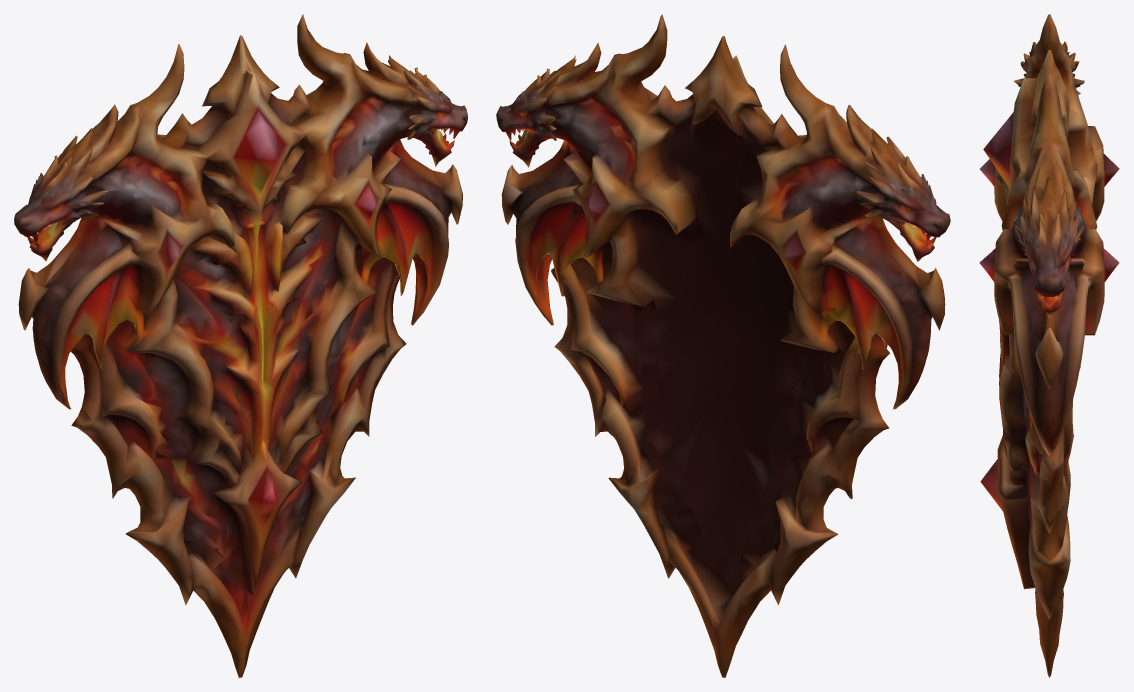
Rendered from aegis_of_fragnir.glb.
3 views of the same model, side by side, from view 1: azimuth 30°, elevation 25°; view 2: azimuth 150°, elevation 25°; view 3: azimuth 270°, elevation 25° (orthographic). The views are drawn at different scales.
Parts seen in each view (by area): view 1: aegis_of_fragnir; view 2: aegis_of_fragnir; view 3: aegis_of_fragnir.
Boxes of the visible parts, x1,y1,x2,y2 form: aegis_of_fragnir: [14, 14, 467, 677]; aegis_of_fragnir: [496, 14, 950, 677]; aegis_of_fragnir: [979, 14, 1119, 677].
Size of the model in its own units: 0.6123 by 0.84 by 0.1686.
